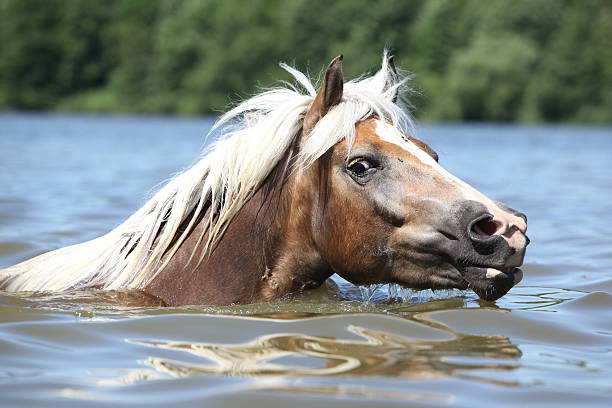Horse: (31, 31, 530, 347)
